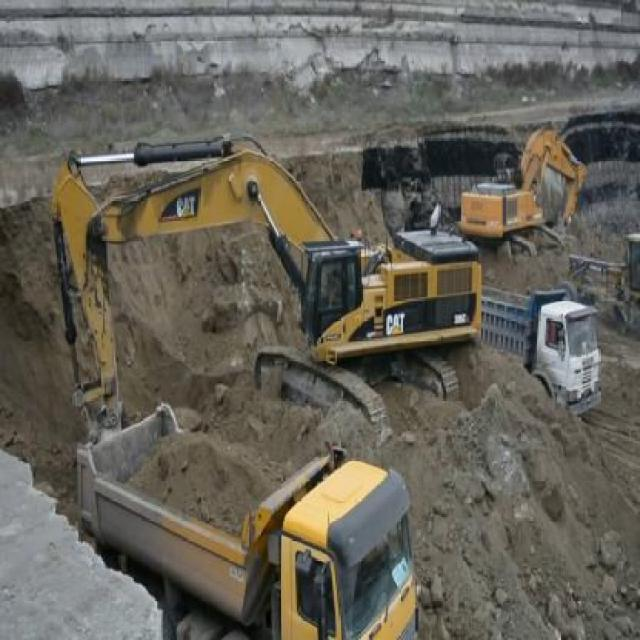Dump Truck: (74, 400, 417, 637), (473, 281, 602, 414)
Excavator: (51, 127, 483, 445), (459, 120, 586, 263)
